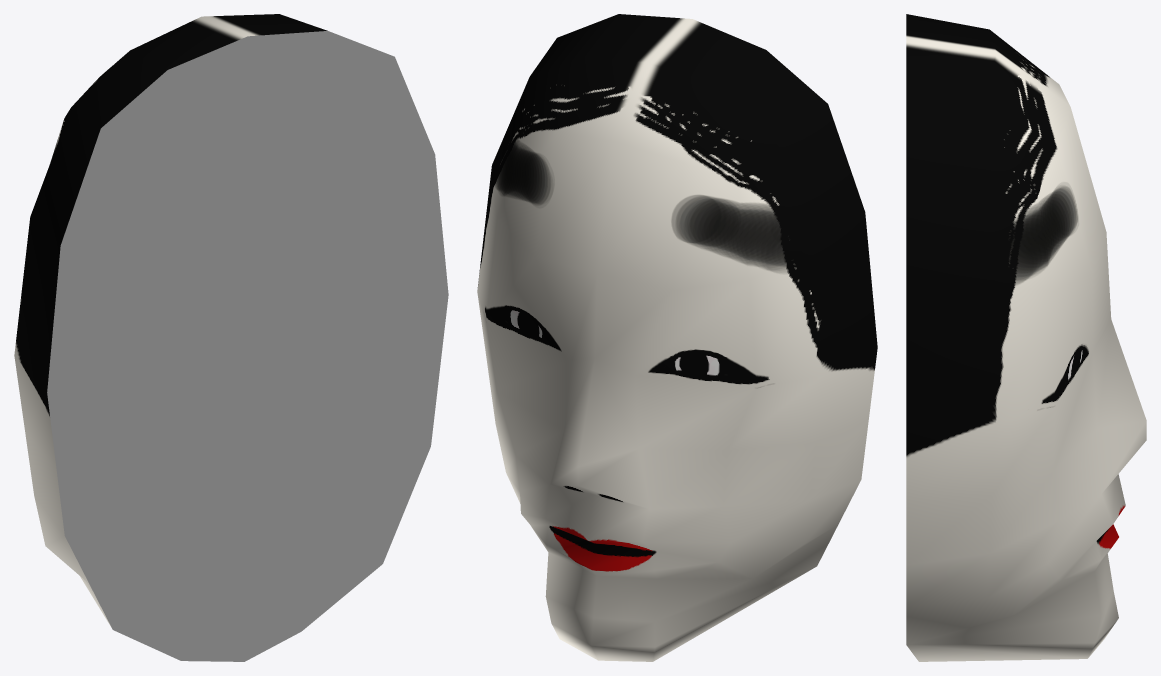
Rendered from noumen.fbx.
3 views of the same model, side by side, from view 1: azimuth 30°, elevation 25°; view 2: azimuth 150°, elevation 25°; view 3: azimuth 270°, elevation 25° (orthographic). The views are drawn at different scales.
Visible parts, largest first — view 1: pCube1; view 2: pCube1; view 3: pCube1.
Boxes of the visible parts, left/top/right/bottom form: pCube1: left=14, top=14, right=448, bottom=661; pCube1: left=477, top=14, right=877, bottom=661; pCube1: left=906, top=14, right=1146, bottom=661.
Bounding box in the file's own units: 5.64 × 8.42 × 3.02.
